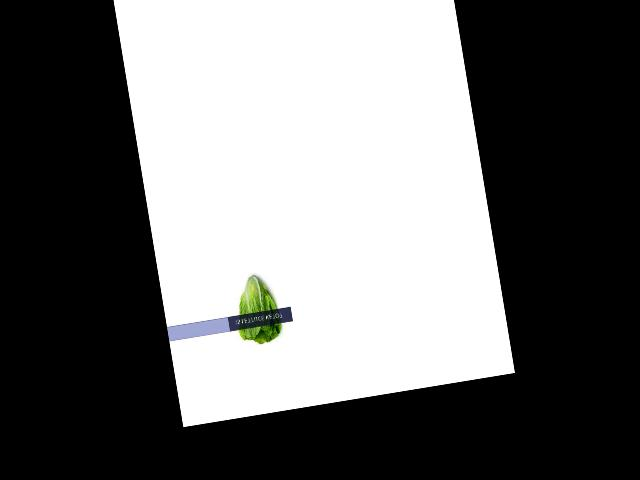lettuce: (227, 265, 287, 347)
